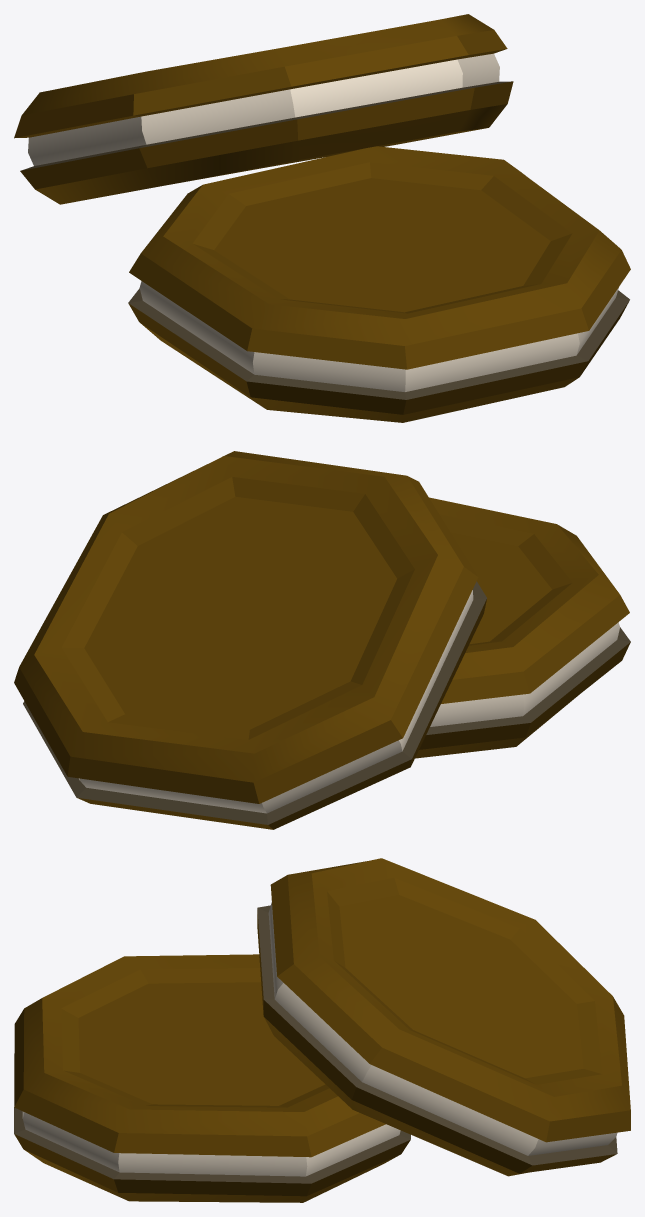
File: Galletas.fbx
3 renders of one model, top to bottom at view 1: azimuth 30°, elevation 25°; view 2: azimuth 150°, elevation 25°; view 3: azimuth 270°, elevation 25°, orthographic. The views are drawn at different scales.
Visible parts, largest first — view 1: polySurface30; view 2: polySurface30; view 3: polySurface30.
Part boxes in pixels (x1,y1,x2,y2): polySurface30: [14, 14, 630, 422]; polySurface30: [14, 451, 630, 829]; polySurface30: [14, 858, 630, 1202].
Size of the model in its own units: 1.06 by 0.6546 by 1.55.
